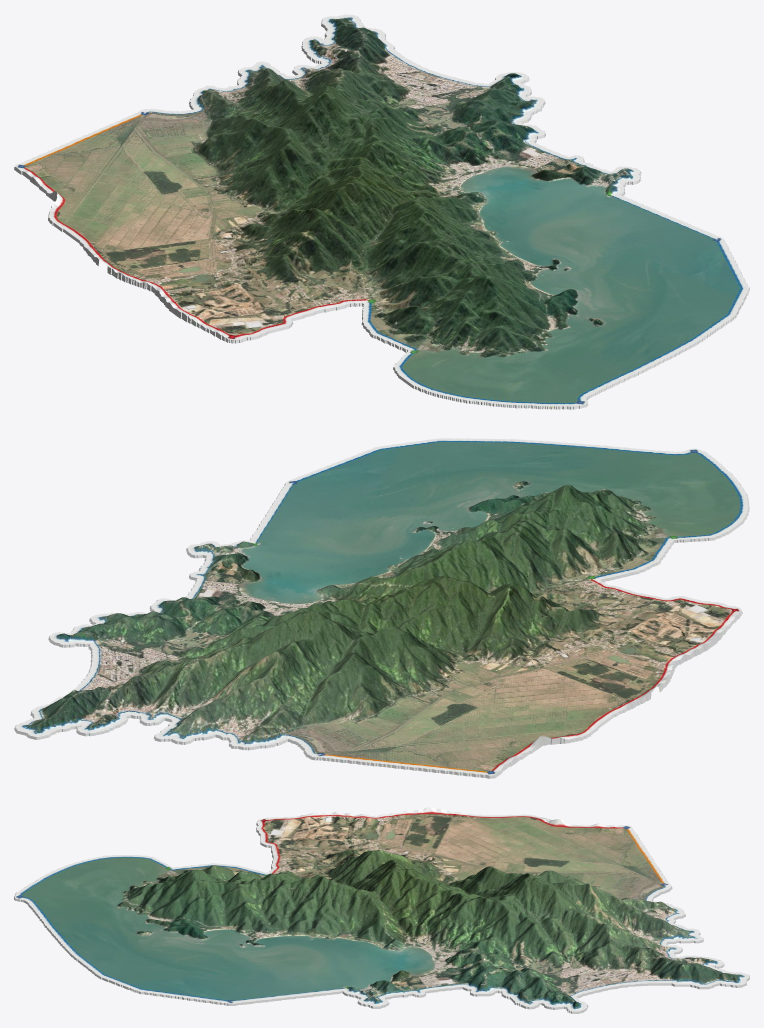
3 renders of one model, top to bottom at view 1: azimuth 30°, elevation 25°; view 2: azimuth 150°, elevation 25°; view 3: azimuth 270°, elevation 25°, orthographic. The views are drawn at different scales.
Bounding box in the file's own units: 0.9992 × 0.1141 × 1.55.
Materials: 1 (1 with a texture image).
